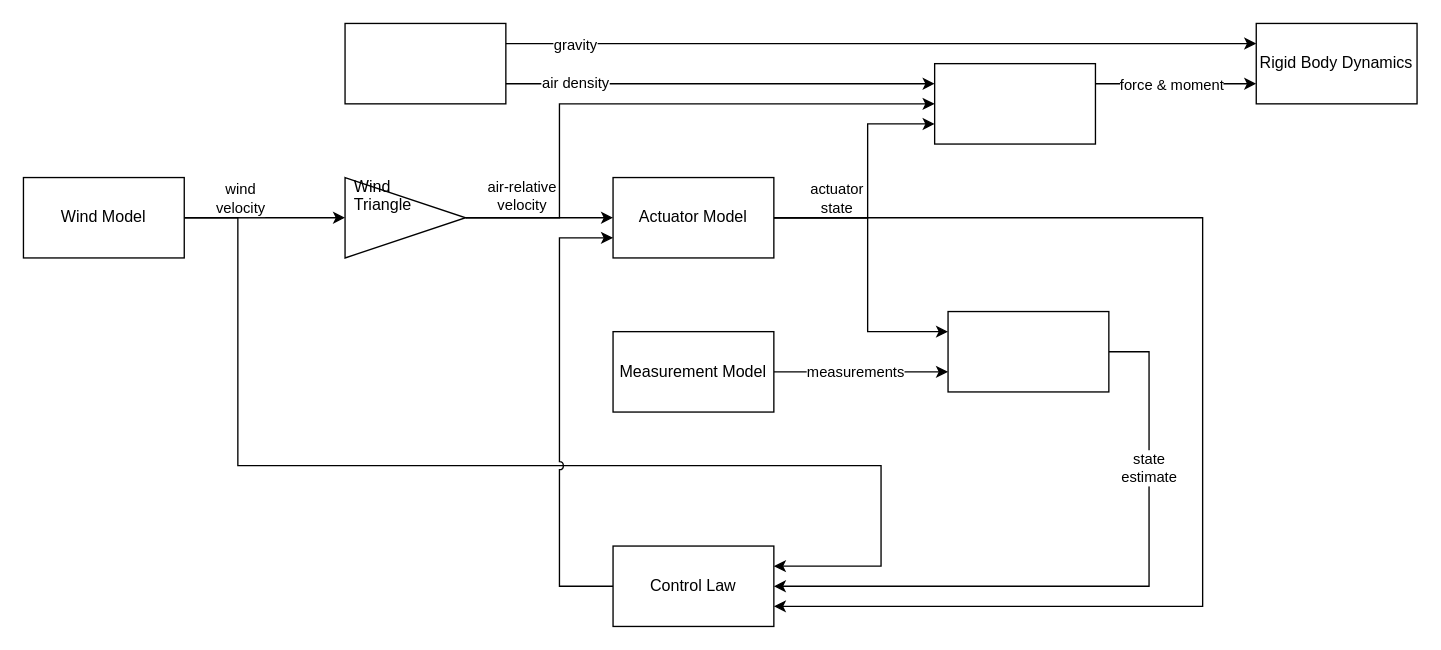
The diagram is 1441 pixels wide and 650 high, and some of its shapes have lost their labels. The shapes that lost their labels are listed below. From the top down, each one's centre as x and y in pixels, then its label:
point (425, 63): Environment
point (1014, 103): Aerodynamics
point (1028, 351): Estimator
